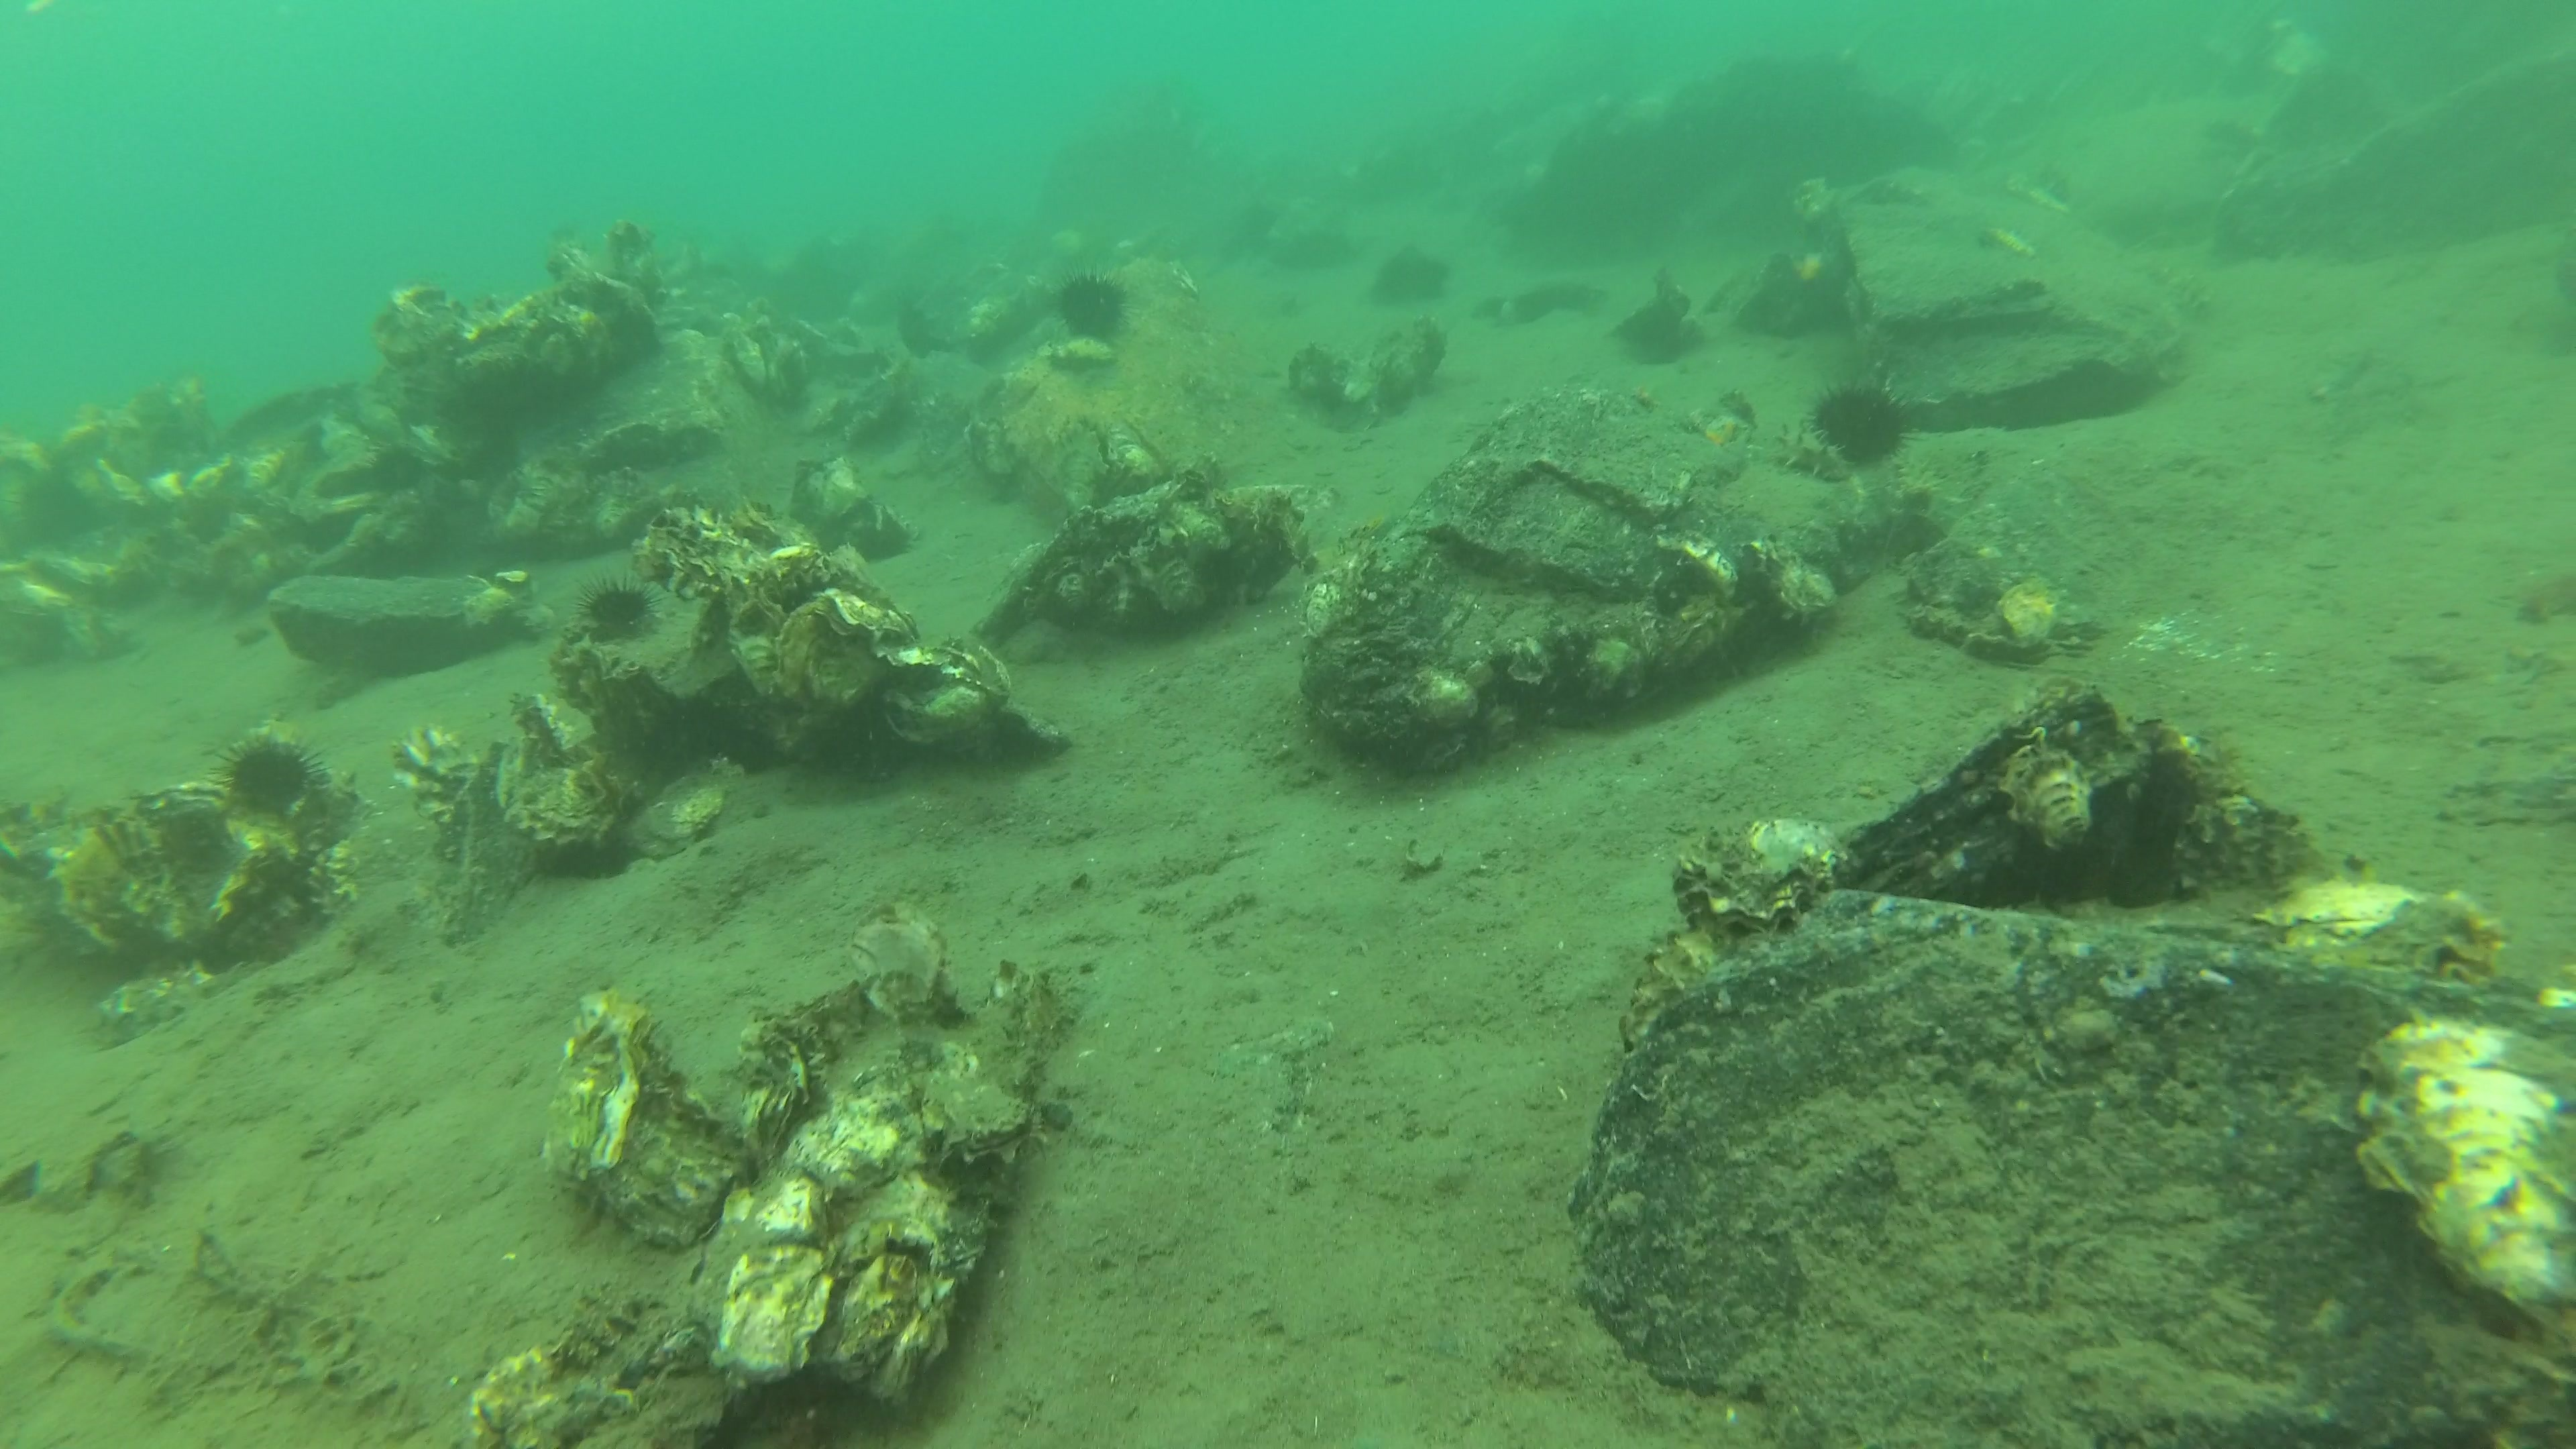echinus: (1806, 377, 1920, 469), (205, 732, 331, 814), (1053, 272, 1132, 345), (573, 575, 669, 635)
